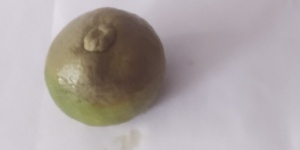BAD: (45, 7, 167, 127)
